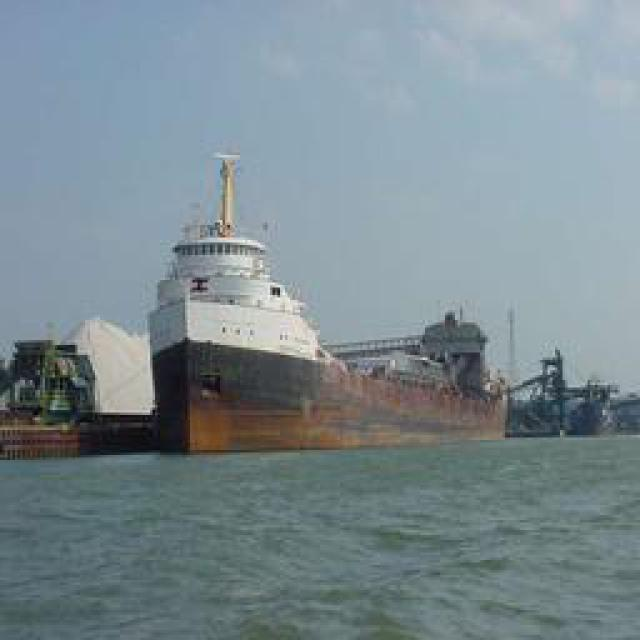Ship: (120, 149, 518, 462)
